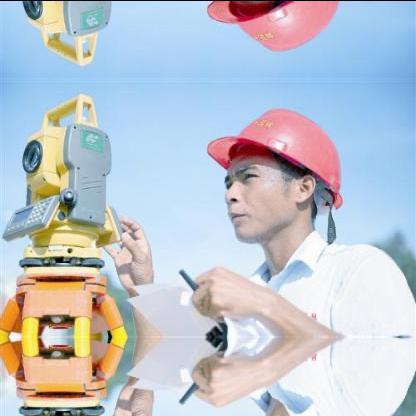Helmet: (201, 89, 354, 260), (201, 0, 355, 68)
